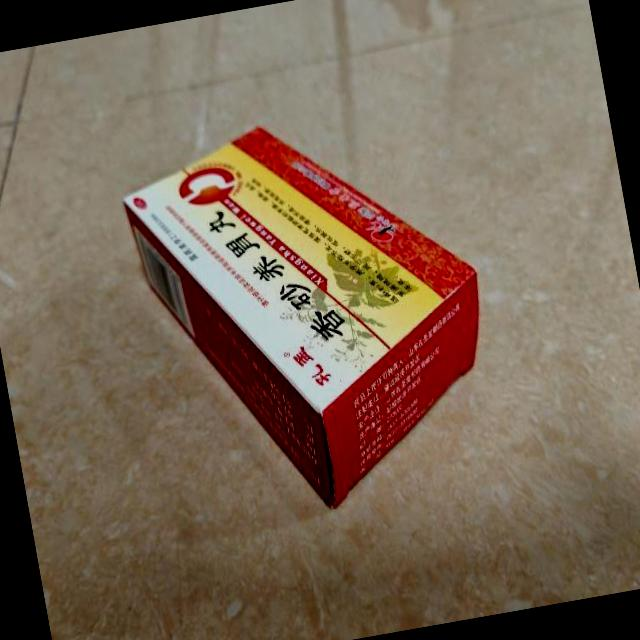box: (114, 92, 510, 534)
